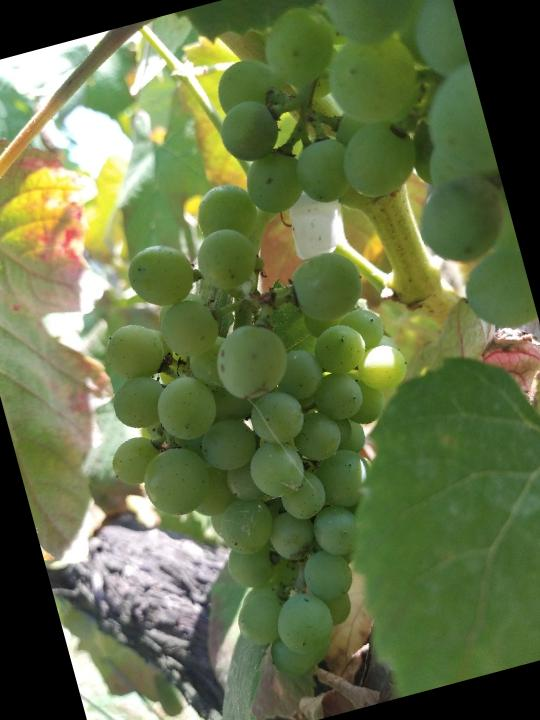grape: (47, 149, 484, 719)
